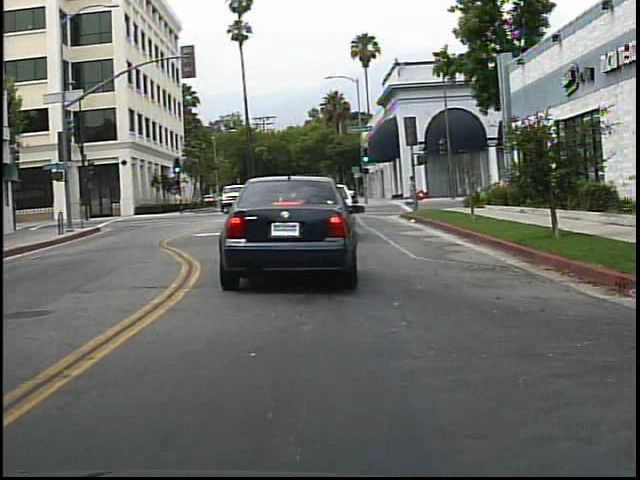person: (400, 173, 416, 217)
